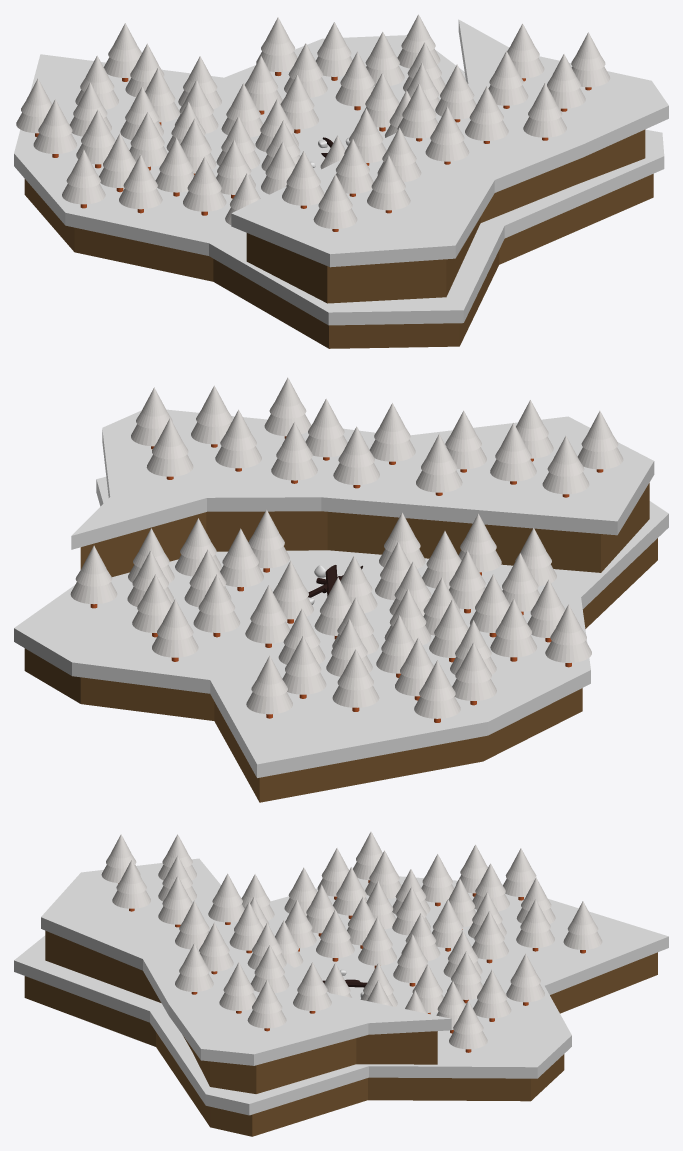
The model's file is ile_immense_neige.fbx.
3 views of the same model, one above another, from view 1: azimuth 30°, elevation 25°; view 2: azimuth 150°, elevation 25°; view 3: azimuth 270°, elevation 25° (orthographic). The views are drawn at different scales.
Parts seen in each view (by area): view 1: Cylinder.001, Cylinder.007, Cylinder, Cylinder.006, Sapin.028, Sapin.015, Sapin.054, Sapin.025, Sapin.029, Sapin.046, Sapin.047, Sapin.045 (+44 smaller); view 2: Cylinder.001, Cylinder.007, Cylinder, Cylinder.006, Sapin.052, Sapin.055, Sapin.010, Sapin.020, Sapin.041, Sapin.050, Sapin.023, Sapin.026 (+47 smaller); view 3: Cylinder.001, Cylinder.007, Cylinder, Cylinder.006, Sapin.027, Sapin.043, Sapin.054, Sapin.009, Sapin.020, Sapin.023, Sapin.046, Sapin.041 (+44 smaller).
Part boxes in pixels (bbox=[...]): Cylinder.001: bbox=[14, 35, 664, 325]; Cylinder.007: bbox=[231, 19, 668, 267]; Cylinder: bbox=[24, 174, 653, 348]; Cylinder.006: bbox=[246, 129, 645, 303]; Sapin.028: bbox=[62, 149, 105, 204]; Sapin.015: bbox=[33, 99, 77, 153]; Sapin.054: bbox=[367, 155, 410, 210]; Sapin.025: bbox=[119, 154, 162, 209]; Sapin.029: bbox=[183, 157, 226, 211]; Sapin.046: bbox=[523, 83, 566, 137]; Sapin.047: bbox=[425, 107, 469, 161]; Sapin.045: bbox=[465, 86, 508, 140]; Cylinder.001: bbox=[14, 476, 668, 777]; Cylinder.007: bbox=[71, 409, 654, 549]; Cylinder: bbox=[24, 538, 657, 802]; Cylinder.006: bbox=[80, 483, 649, 576]; Sapin.052: bbox=[542, 436, 589, 494]; Sapin.055: bbox=[416, 434, 462, 492]; Sapin.010: bbox=[490, 598, 537, 657]; Sapin.020: bbox=[152, 599, 198, 657]; Sapin.041: bbox=[146, 418, 193, 476]; Sapin.050: bbox=[490, 422, 536, 481]; Sapin.023: bbox=[70, 545, 117, 604]; Sapin.026: bbox=[414, 660, 460, 718]; Cylinder.001: bbox=[14, 876, 668, 1115]; Cylinder.007: bbox=[41, 858, 451, 1065]; Cylinder: bbox=[24, 952, 657, 1136]; Cylinder.006: bbox=[45, 930, 437, 1093]; Sapin.027: bbox=[563, 901, 602, 949]; Sapin.043: bbox=[247, 979, 286, 1028]; Sapin.054: bbox=[112, 860, 150, 908]; Sapin.009: bbox=[516, 899, 554, 947]; Sapin.020: bbox=[506, 953, 544, 1002]; Sapin.023: bbox=[449, 1000, 487, 1049]; Sapin.046: bbox=[175, 943, 213, 991]; Sapin.041: bbox=[293, 962, 331, 1010].
Bounding box in the file's own units: 7820 × 2118 × 9412.
